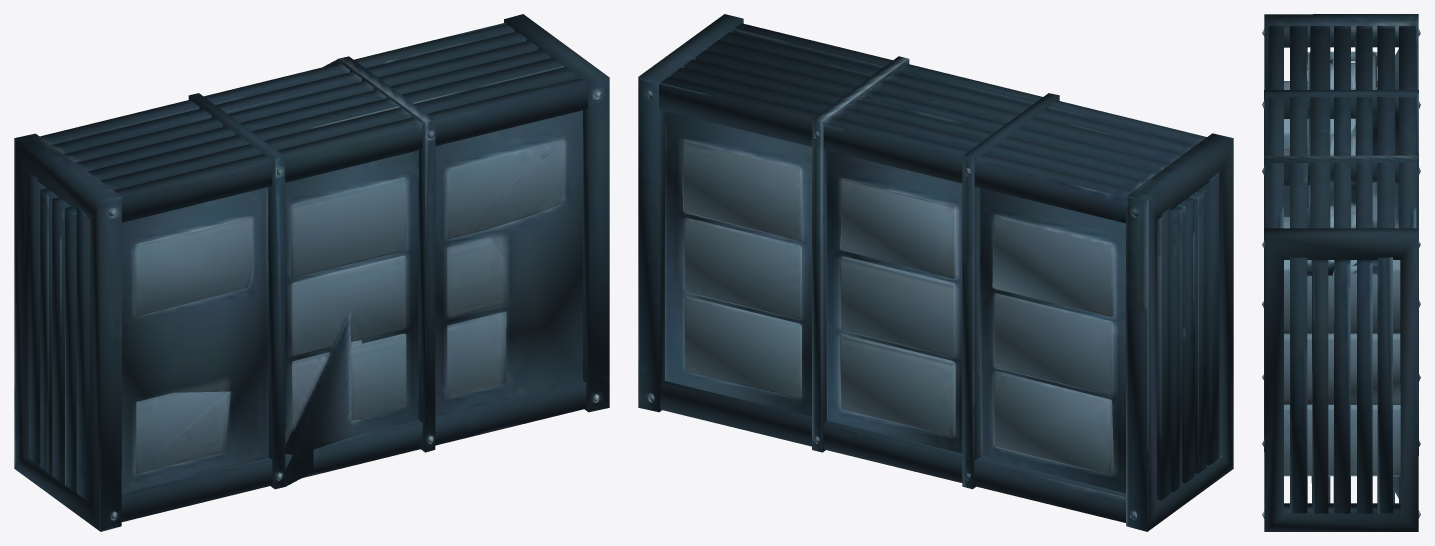
The model's file is cryo-rack.glb.
3 renders of one model, left to right at view 1: azimuth 30°, elevation 25°; view 2: azimuth 150°, elevation 25°; view 3: azimuth 270°, elevation 25°, orthographic. The views are drawn at different scales.
Size of the model in its own units: 1 by 0.6208 by 0.302.
1 material, 1 textured.
